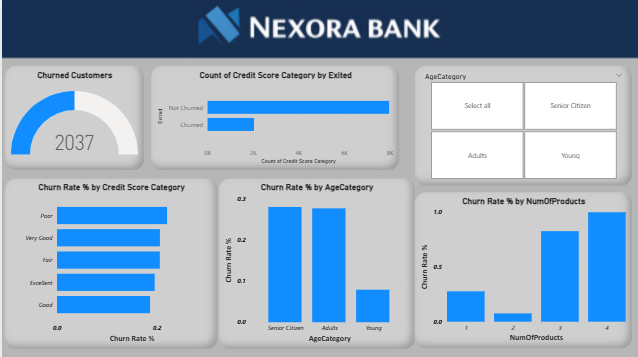

What the dashboard file says about the page in this screenshot:
{"tool":"powerbi","page":{"name":"Customer Behavior Analysis Page","canvas":[1280,720],"ordinal":1},"visuals":[{"type":"gauge","fields":{"Y":["Nexora_Bank_Churn_Cleaned.Churned Customers"]},"box":[4.3,135.7,280,210],"z":2000},{"type":"clusteredColumnChart","fields":{"Y":["Nexora_Bank_Churn_Cleaned.Churn Rate %"],"Category":["Nexora_Bank_Churn_Cleaned.AgeCategory"]},"box":[431.4,360,394.3,342.9],"z":3000},{"type":"clusteredBarChart","fields":{"Category":["Nexora_Bank_Churn_Cleaned.CreditScoreCategory"],"Y":["Nexora_Bank_Churn_Cleaned.Churn Rate %"]},"box":[4.3,360,427.1,342.9],"z":4000},{"type":"clusteredBarChart","fields":{"Category":["Nexora_Bank_Churn_Cleaned.Exited"],"Y":["CountNonNull(Nexora_Bank_Churn_Cleaned.CreditScoreCategory)"]},"box":[298.6,135.7,498.6,210],"z":5000},{"type":"columnChart","fields":{"Category":["Nexora_Bank_Churn_Cleaned.NumOfProducts"],"Y":["Nexora_Bank_Churn_Cleaned.Churn Rate %"]},"box":[825.7,388.6,435.7,314.3],"z":6000},{"type":"slicer","fields":{"Values":["Nexora_Bank_Churn_Cleaned.AgeCategory"]},"box":[825.7,135.7,435.7,241.4],"z":7000}]}

Visuals, with their boxes in screenshot pixels (x1, y1, x2, y2), scaled from the page's 1280x720 canvas onto the 638x357 screenshot:
gauge - Nexora_Bank_Churn_Cleaned.Churned Customers: detection(2, 67, 142, 171)
clusteredColumnChart - Nexora_Bank_Churn_Cleaned.Churn Rate % x Nexora_Bank_Churn_Cleaned.AgeCategory: detection(215, 178, 412, 349)
clusteredBarChart - Nexora_Bank_Churn_Cleaned.CreditScoreCategory x Nexora_Bank_Churn_Cleaned.Churn Rate %: detection(2, 178, 215, 349)
clusteredBarChart - Nexora_Bank_Churn_Cleaned.Exited x CountNonNull(Nexora_Bank_Churn_Cleaned.CreditScoreCategory): detection(149, 67, 397, 171)
columnChart - Nexora_Bank_Churn_Cleaned.NumOfProducts x Nexora_Bank_Churn_Cleaned.Churn Rate %: detection(412, 193, 629, 349)
slicer - Nexora_Bank_Churn_Cleaned.AgeCategory: detection(412, 67, 629, 187)
